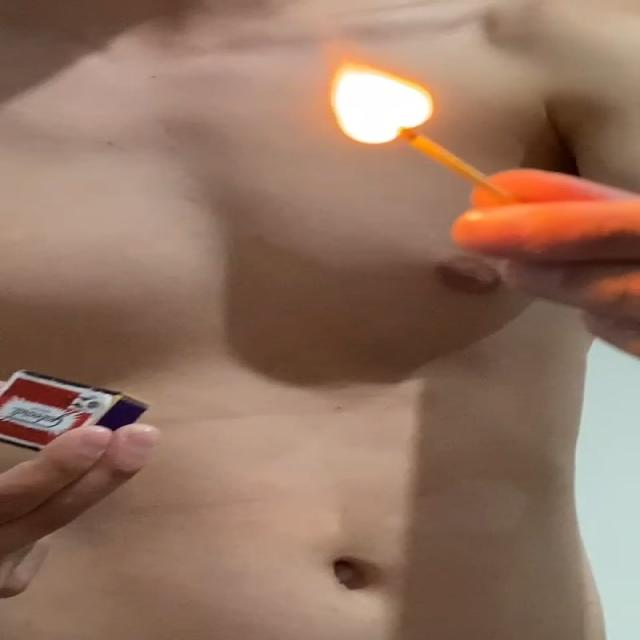fogo-ypXI: (326, 56, 435, 147)
